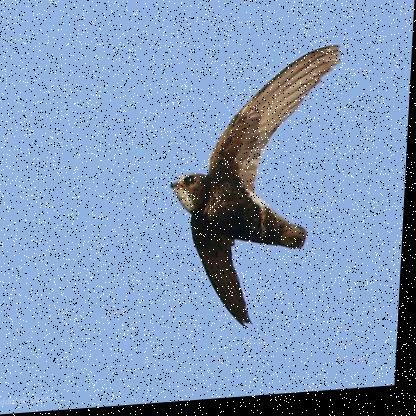Burung: (165, 49, 344, 337)
